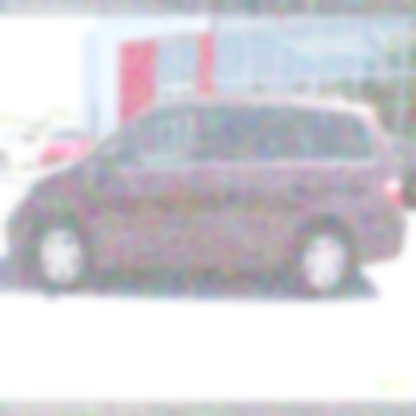Vehicle: (5, 92, 408, 302)
